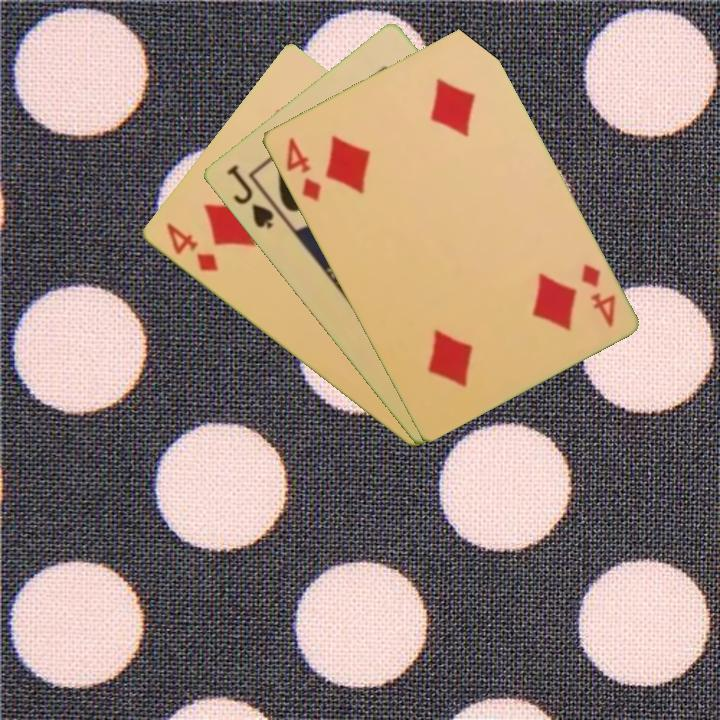4d: (162, 219, 221, 275), (282, 133, 324, 205), (577, 259, 618, 331)
Js: (222, 160, 277, 232)
